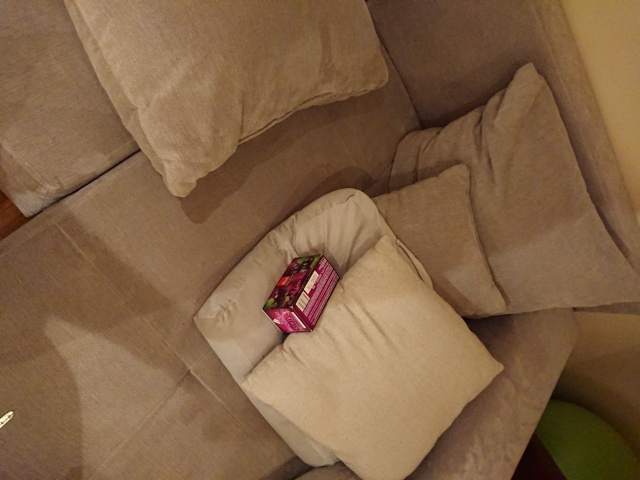Franck Black Currant Tea 60g: (260, 252, 342, 335)
